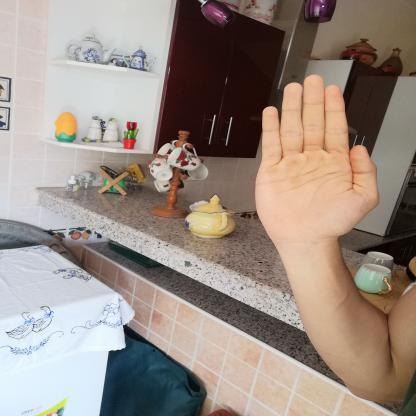SEEN: (242, 64, 390, 255)
